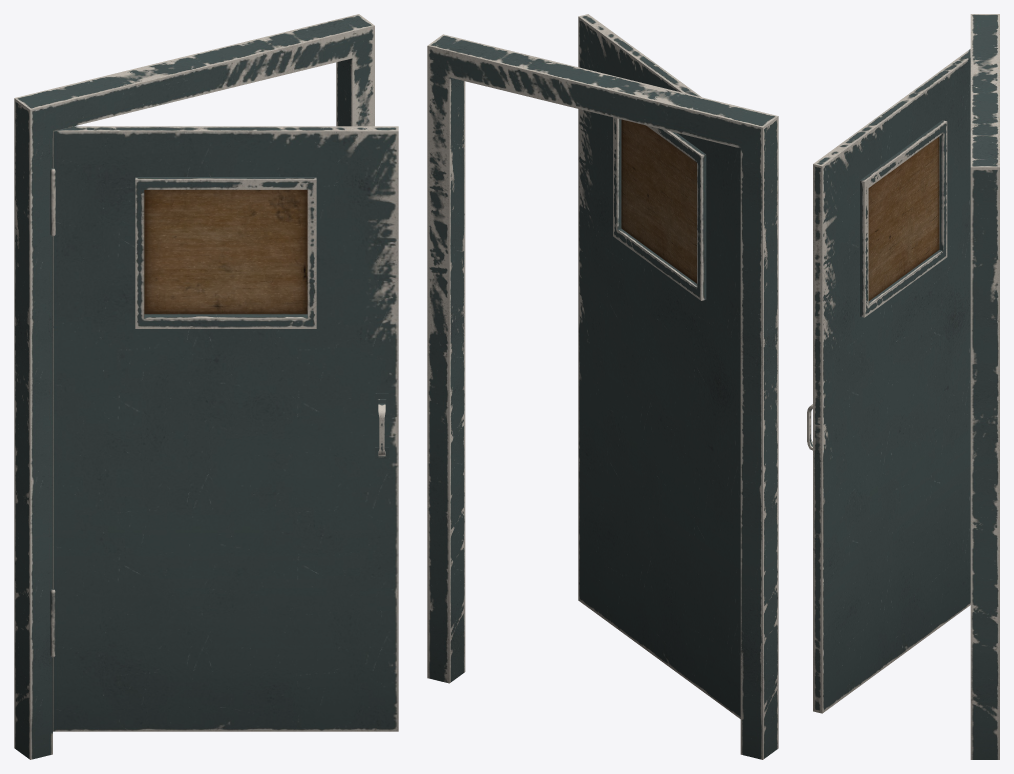
File: canhcua.glb
The picture shows the model from 3 angles, left to right: view 1: azimuth 30°, elevation 25°; view 2: azimuth 150°, elevation 25°; view 3: azimuth 270°, elevation 25°; orthographic projection. The views are drawn at different scales.
Visible parts, largest first — view 1: CanhCua, KhungCua; view 2: CanhCua, KhungCua; view 3: CanhCua, KhungCua.
Part boxes in pixels (bbox=[...]): CanhCua: bbox=[50, 126, 398, 731]; KhungCua: bbox=[14, 14, 374, 759]; CanhCua: bbox=[578, 14, 740, 718]; KhungCua: bbox=[427, 34, 778, 759]; CanhCua: bbox=[807, 49, 970, 713]; KhungCua: bbox=[970, 14, 999, 759].
Bounding box in the file's own units: 1.33 × 2.4 × 0.7084.
Materials: 1 (1 with a texture image).
